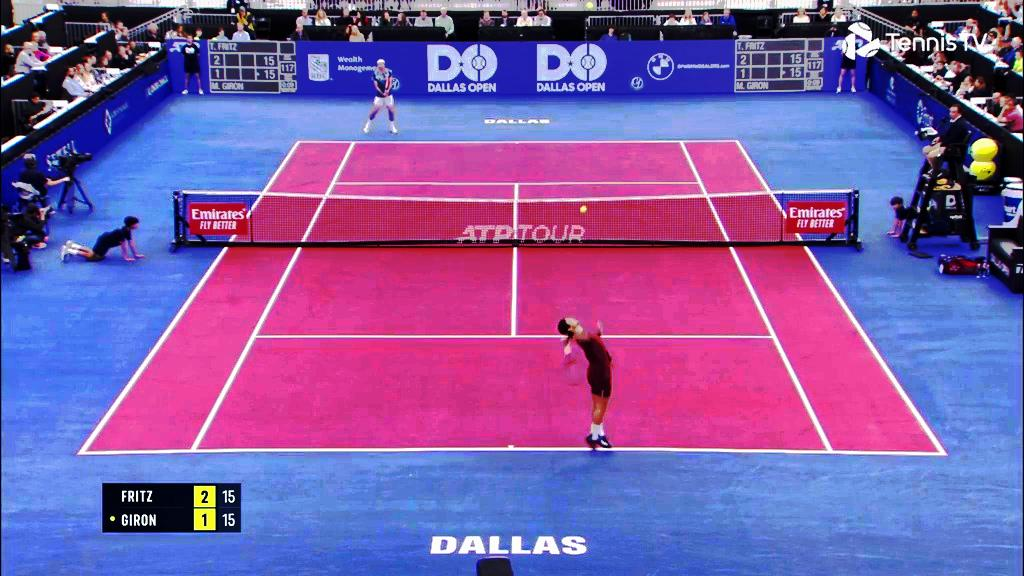tennis-court: (77, 141, 947, 455)
